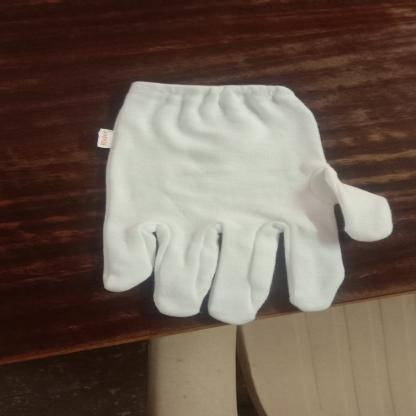gloved_hand: (92, 77, 396, 330)
